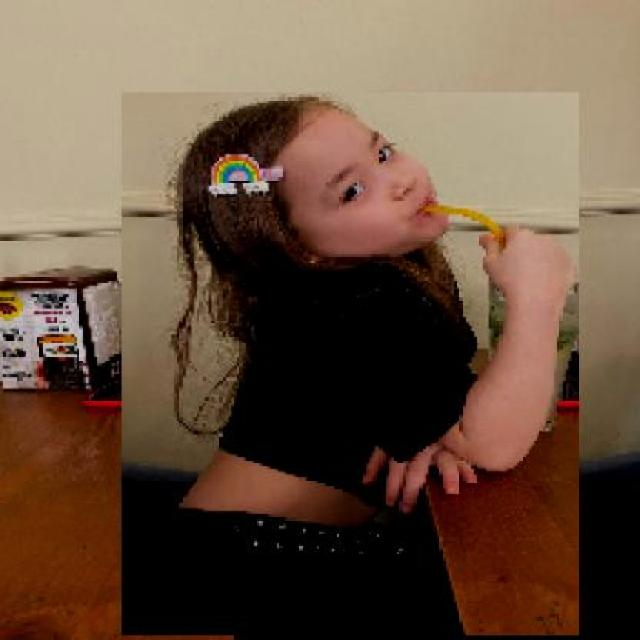child: (120, 92, 580, 637)
